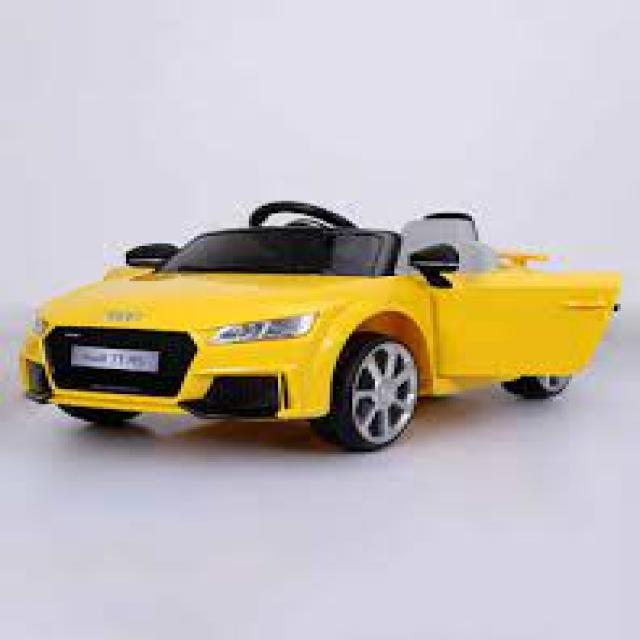Car: (16, 198, 621, 452)
